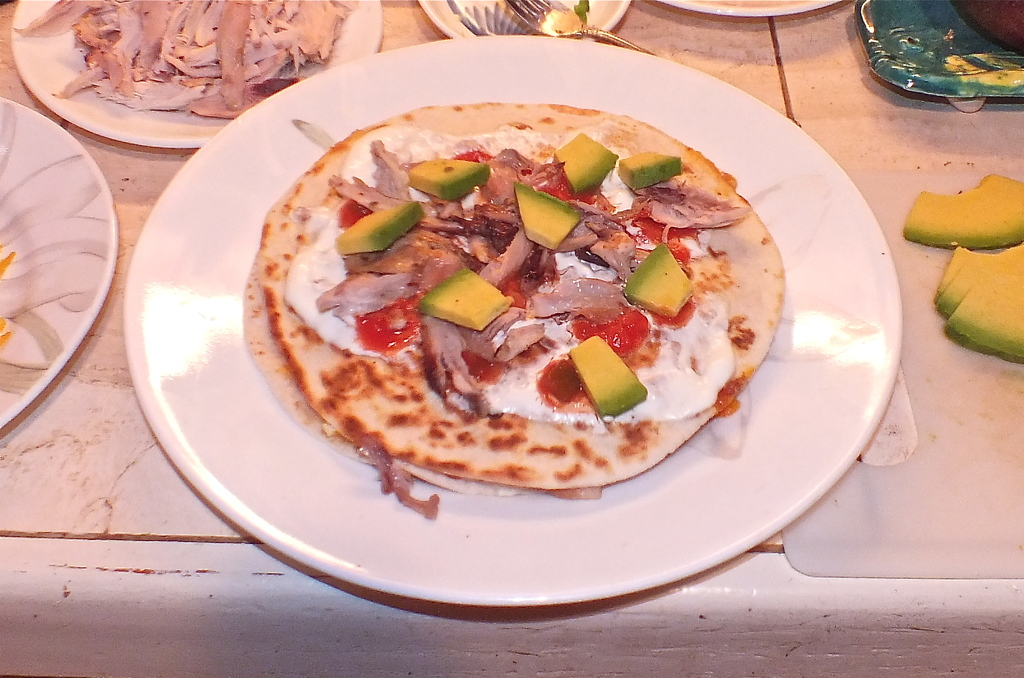Pizza: (257, 82, 762, 505)
